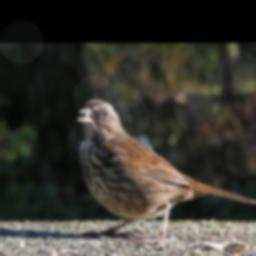Sparrow: (72, 94, 256, 245)
